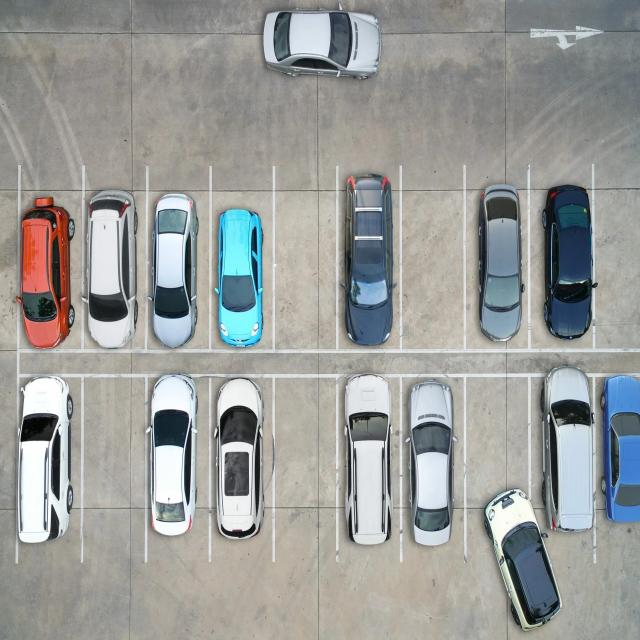space-empty: (463, 377, 532, 556), (400, 172, 465, 348), (272, 379, 338, 552), (274, 170, 338, 348), (82, 377, 144, 548), (597, 165, 639, 351)
space-occupied: (530, 173, 598, 347), (338, 171, 402, 347), (464, 174, 530, 344), (210, 171, 274, 346), (400, 376, 465, 547), (530, 372, 596, 540), (337, 375, 401, 547), (209, 376, 274, 544), (145, 376, 209, 546), (147, 174, 209, 343), (18, 375, 80, 539), (82, 182, 144, 342), (20, 180, 80, 344), (593, 372, 640, 536)
